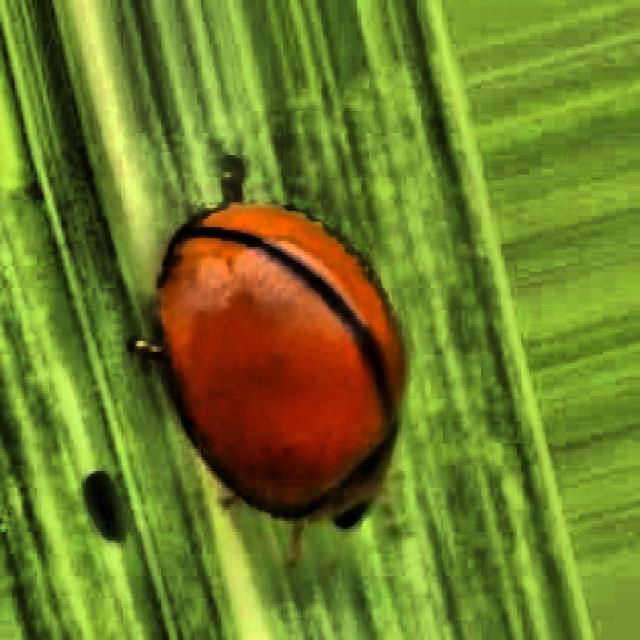Ladybug: (146, 182, 423, 532)
